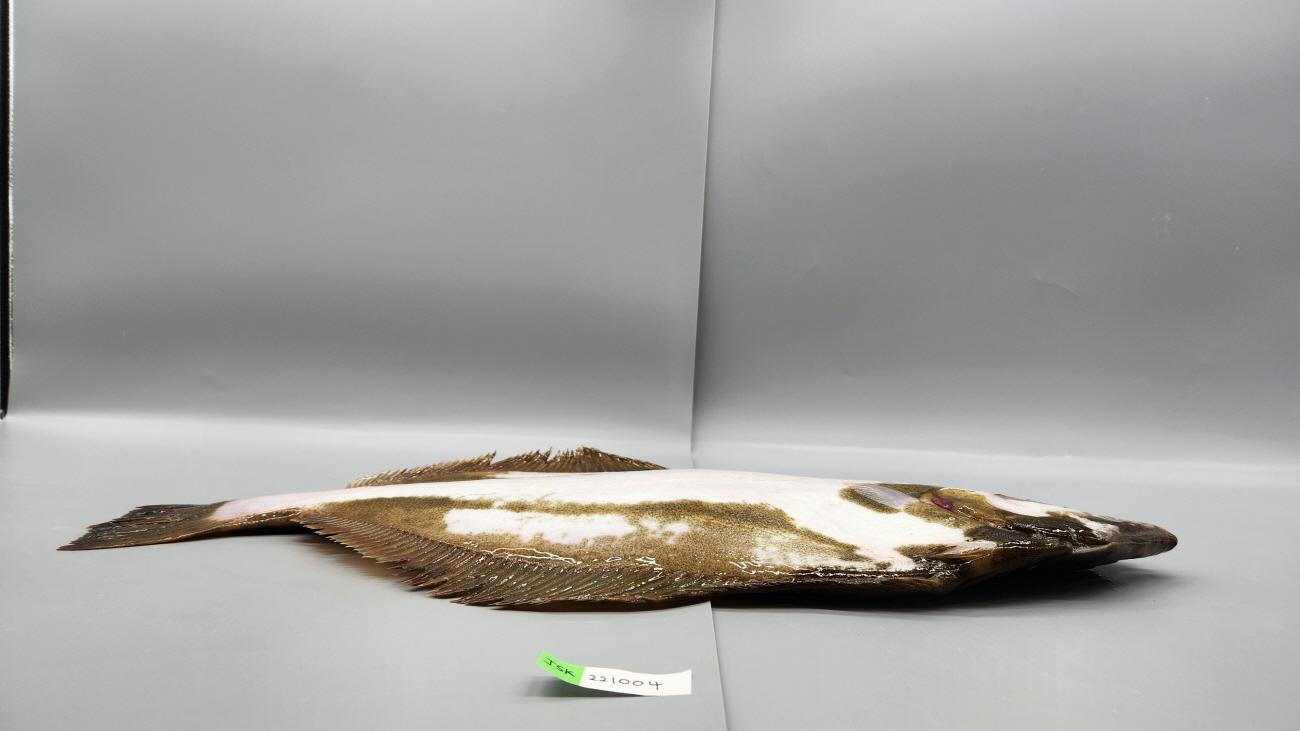POOUN: (55, 447, 1178, 606)
